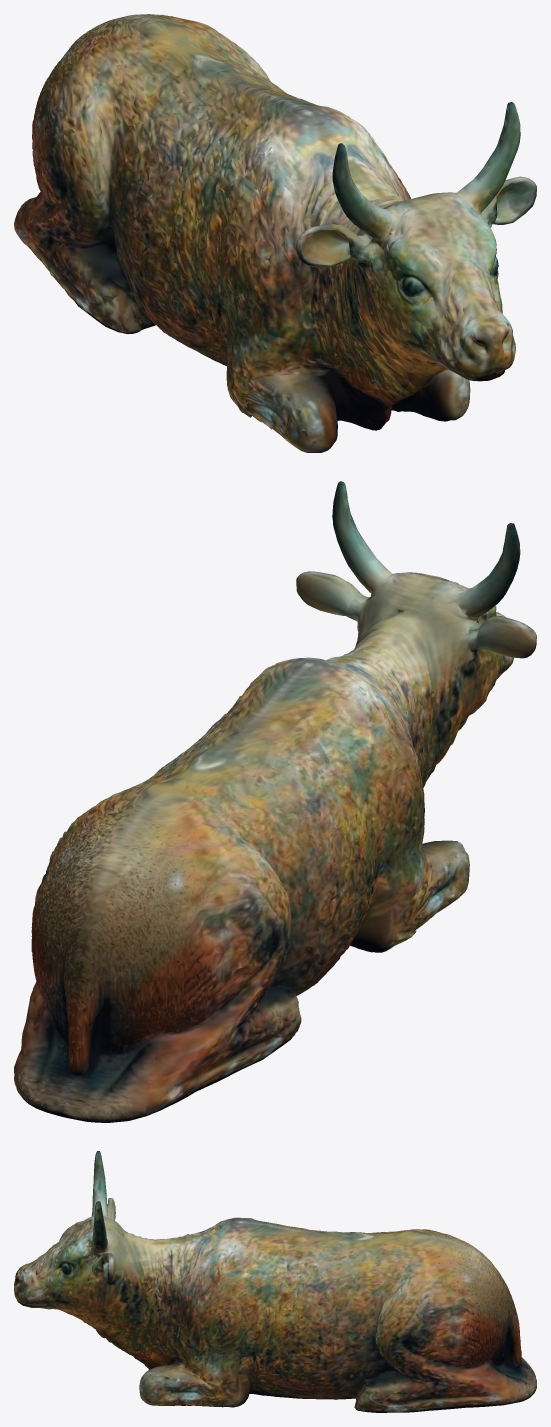
The model's file is gilt-ox.glb.
The picture shows the model from 3 angles, top to bottom: view 1: azimuth 30°, elevation 25°; view 2: azimuth 150°, elevation 25°; view 3: azimuth 270°, elevation 25°; orthographic projection. The views are drawn at different scales.
Size of the model in its own units: 0.0237 by 0.0332 by 0.075.
1 material, 1 textured.
